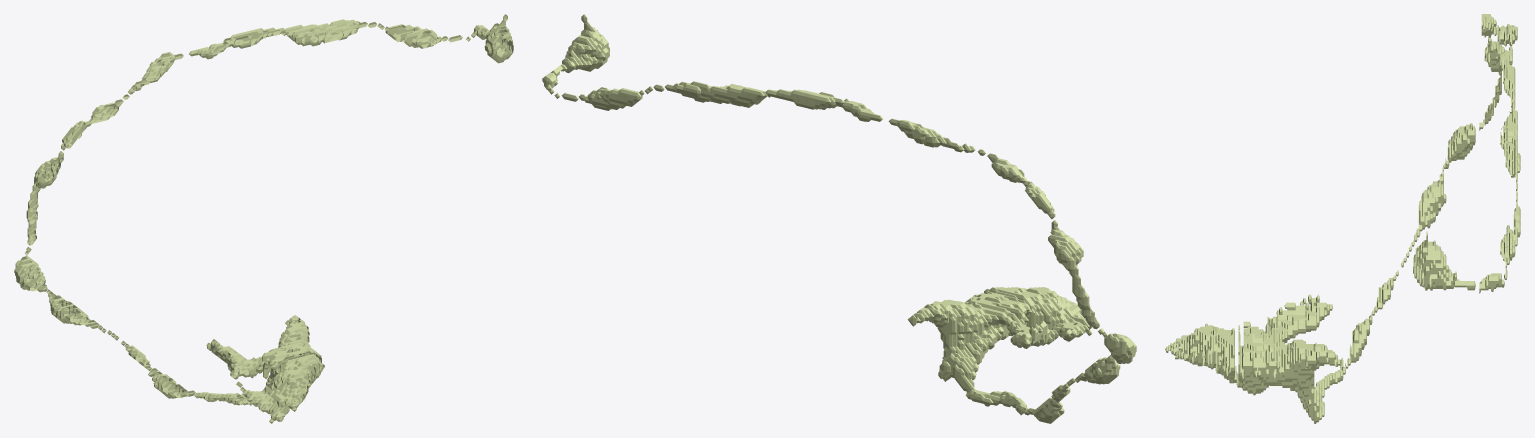
File: SVV_RIVR.gltf
The picture shows the model from 3 angles, left to right: view 1: azimuth 30°, elevation 25°; view 2: azimuth 150°, elevation 25°; view 3: azimuth 270°, elevation 25°; orthographic projection. The views are drawn at different scales.
Visible parts, largest first — view 1: RIVR; view 2: RIVR; view 3: RIVR.
Boxes of the visible parts, x1=… form: RIVR: x1=14, y1=14, x2=513, y2=423; RIVR: x1=542, y1=14, x2=1136, y2=423; RIVR: x1=1165, y1=14, x2=1520, y2=423.
Size of the model in its own units: 103990 by 61469 by 51614.
